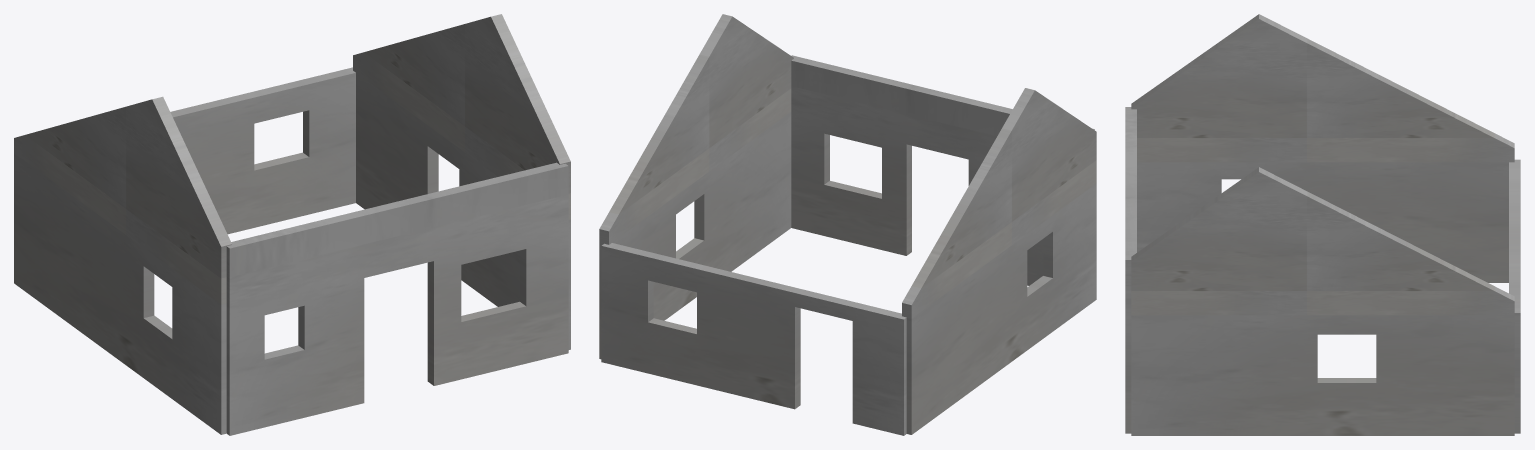
Rendered from BW_FamilyCottageB01_Plaster.fbx.
The picture shows the model from 3 angles, left to right: view 1: azimuth 30°, elevation 25°; view 2: azimuth 150°, elevation 25°; view 3: azimuth 270°, elevation 25°; orthographic projection. The views are drawn at different scales.
Parts seen in each view (by area): view 1: BW_FamilyCottageB01_Plaster; view 2: BW_FamilyCottageB01_Plaster; view 3: BW_FamilyCottageB01_Plaster.
Boxes of the visible parts, x1,y1,x2,y2 form: BW_FamilyCottageB01_Plaster: [14, 14, 570, 435]; BW_FamilyCottageB01_Plaster: [599, 14, 1096, 435]; BW_FamilyCottageB01_Plaster: [1125, 14, 1520, 435].
Size of the model in its own units: 7.02 by 5.47 by 7.42.
